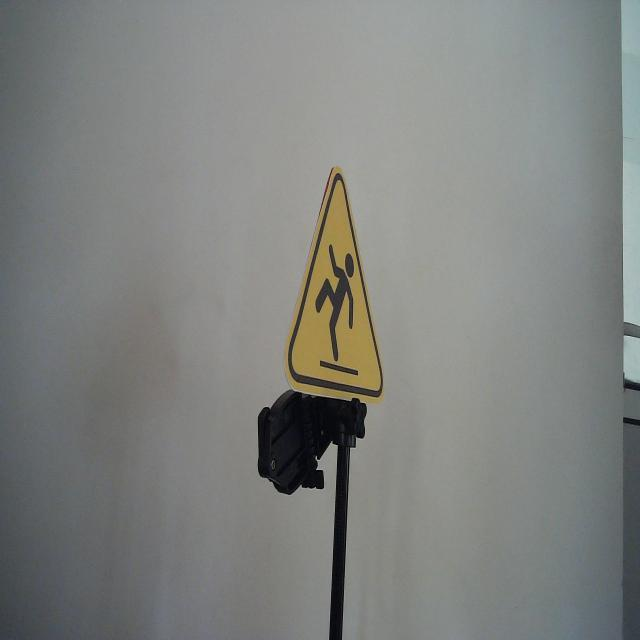slippery_sign: (281, 163, 388, 410)
